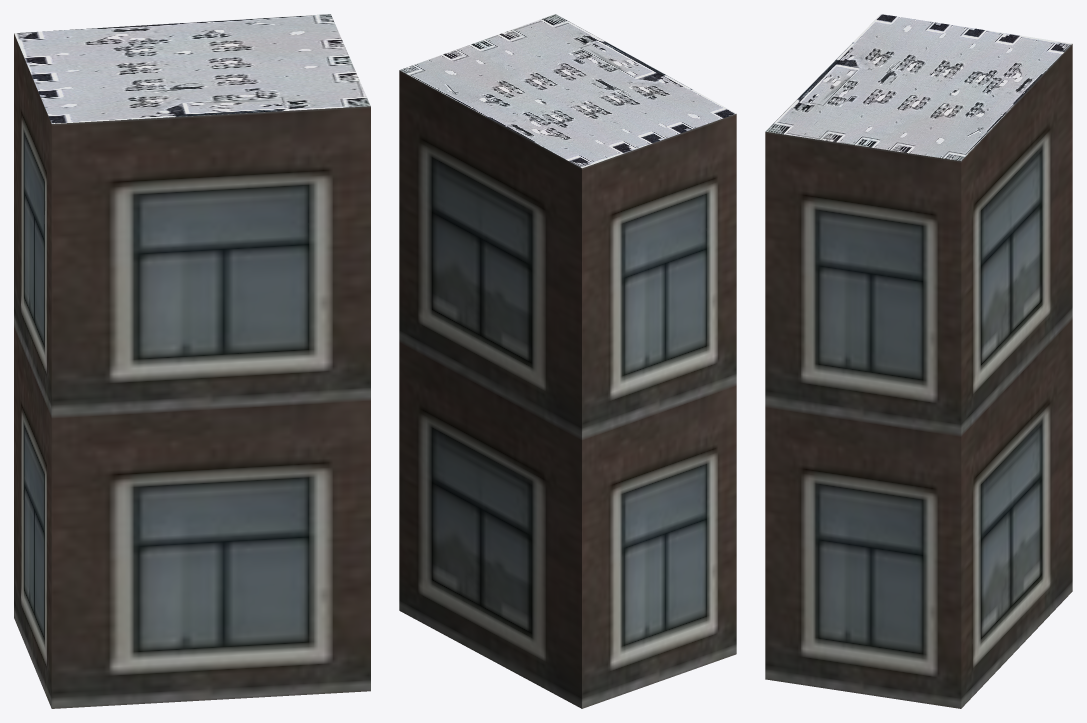
File: ResTex__2570.fbx
3 renders of one model, left to right at view 1: azimuth 30°, elevation 25°; view 2: azimuth 150°, elevation 25°; view 3: azimuth 270°, elevation 25°, orthographic. The views are drawn at different scales.
Visible parts, largest first — view 1: CityEngineMaterial_16_m, CityEngineMaterial_15_m; view 2: CityEngineMaterial_16_m, CityEngineMaterial_15_m; view 3: CityEngineMaterial_16_m, CityEngineMaterial_15_m.
Part boxes in pixels (x1,y1,x2,y2): CityEngineMaterial_16_m: [14, 33, 370, 708]; CityEngineMaterial_15_m: [14, 14, 370, 123]; CityEngineMaterial_16_m: [399, 70, 736, 708]; CityEngineMaterial_15_m: [399, 14, 736, 168]; CityEngineMaterial_16_m: [765, 44, 1072, 708]; CityEngineMaterial_15_m: [765, 14, 1071, 160].
Size of the model in its own units: 3.46 by 6 by 3.05.
Materials: 2 (2 with a texture image).
